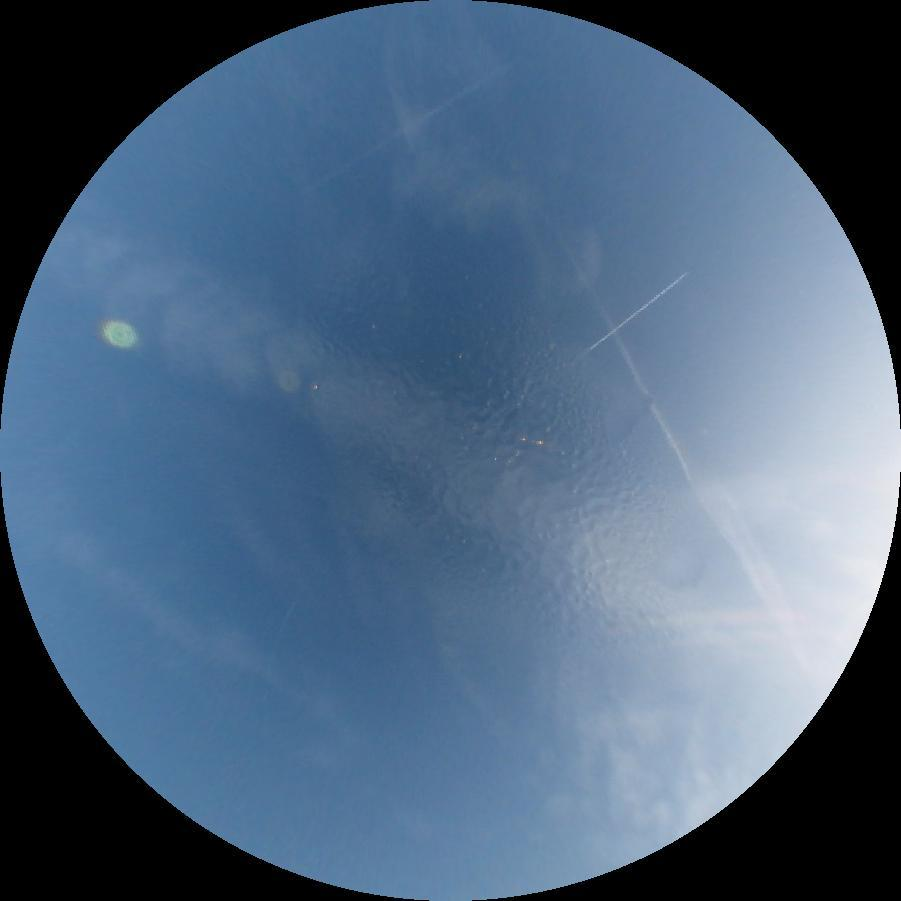contrail young: (300, 64, 510, 195), (584, 268, 690, 353)
